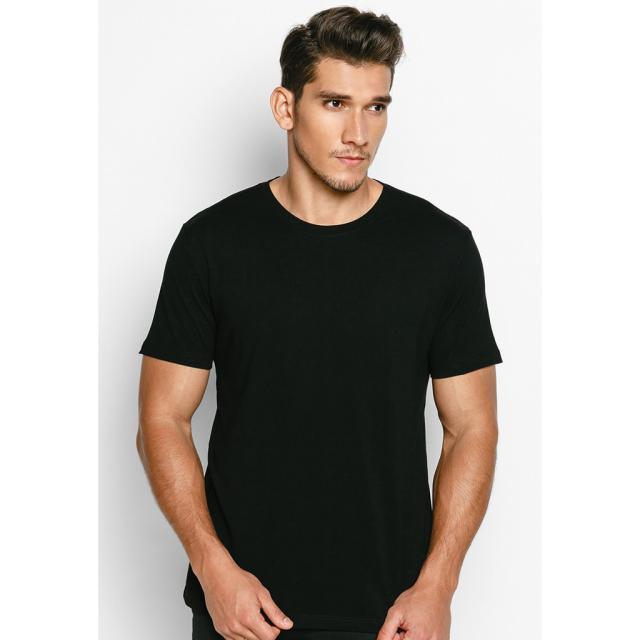short sleeve shirt: (133, 174, 506, 617)
